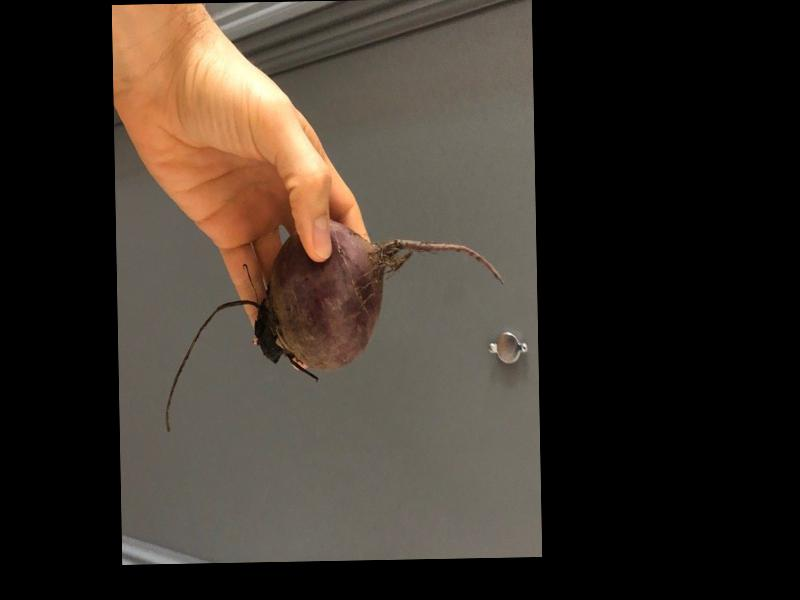Beet: (162, 216, 505, 434)
